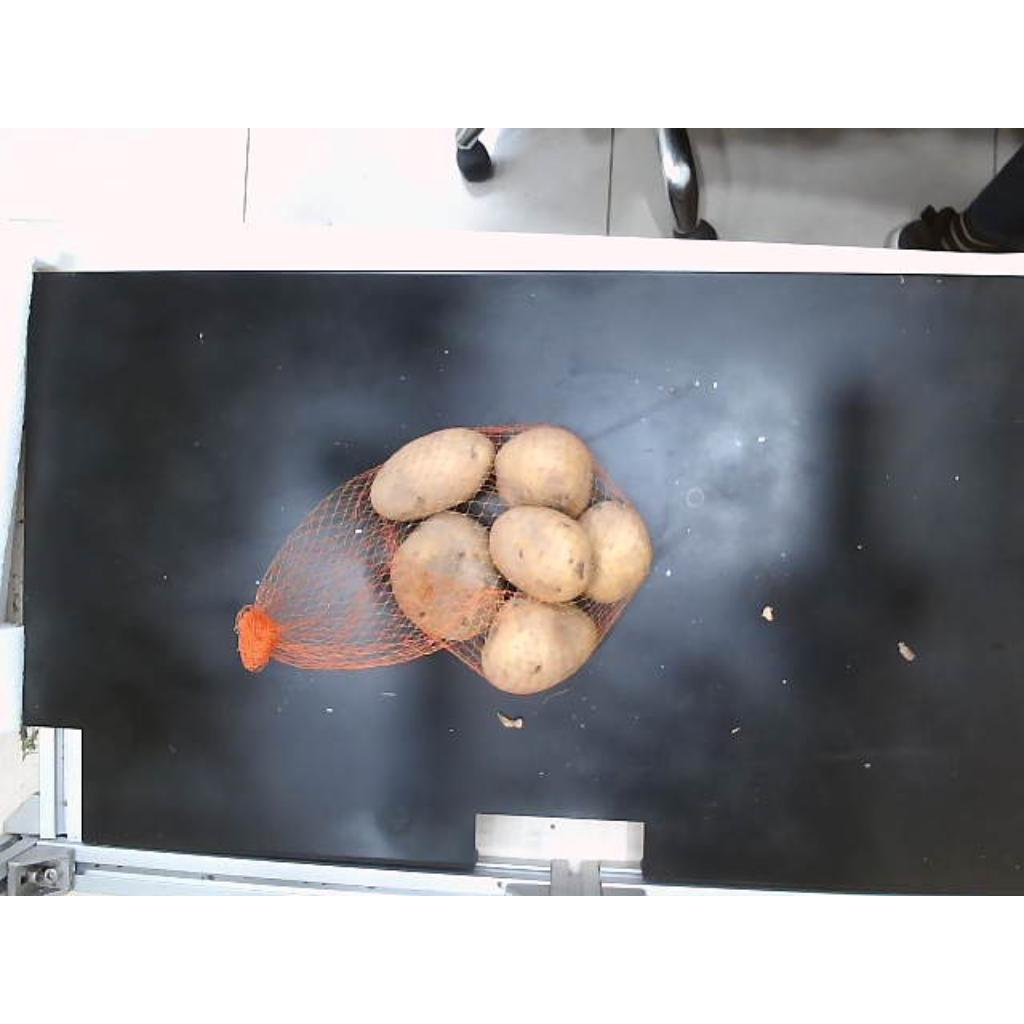potato: (390, 510, 500, 640), (370, 428, 494, 521), (482, 598, 598, 693), (490, 508, 592, 602), (494, 426, 594, 517), (580, 500, 652, 603)
